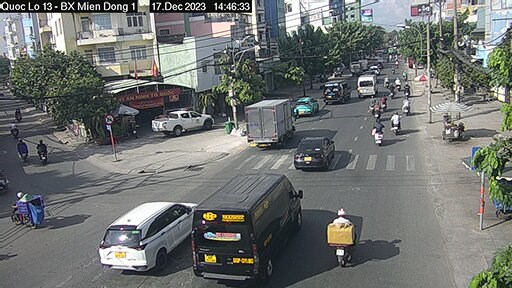car: (183, 151, 306, 283), (94, 191, 196, 271), (147, 107, 222, 132), (297, 136, 336, 167), (354, 72, 385, 99), (294, 95, 312, 116)
motorbike: (328, 206, 366, 265)
truck: (239, 93, 297, 147)
